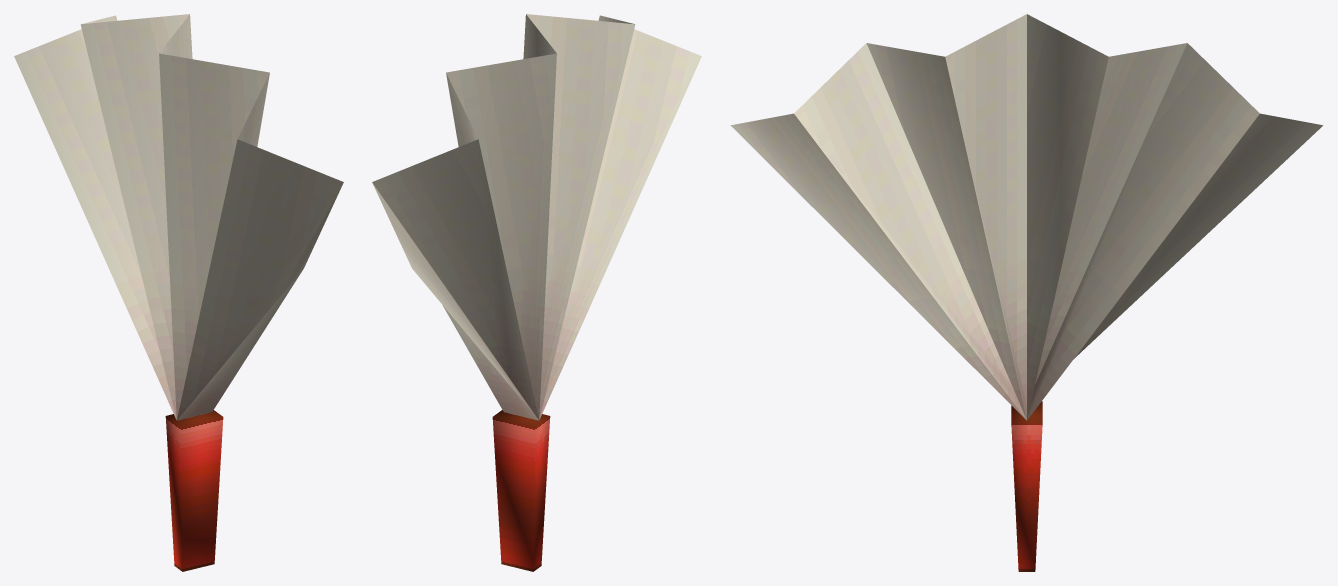
Rendered from ItmHarisen.obj.
3 views of the same model, side by side, from view 1: azimuth 30°, elevation 25°; view 2: azimuth 150°, elevation 25°; view 3: azimuth 270°, elevation 25° (orthographic). The views are drawn at different scales.
Parts seen in each view (by area): view 1: polygon0, polygon1; view 2: polygon0, polygon1; view 3: polygon0, polygon1.
Part boxes in pixels (x1=…): polygon0: x1=14, y1=14, x2=343, y2=420; polygon1: x1=165, y1=410, x2=223, y2=571; polygon0: x1=372, y1=14, x2=701, y2=420; polygon1: x1=492, y1=410, x2=550, y2=571; polygon0: x1=730, y1=14, x2=1322, y2=420; polygon1: x1=1011, y1=401, x2=1042, y2=571.
Size of the model in its own units: 1 by 7 by 7.07.
Materials: 1 (1 with a texture image).
